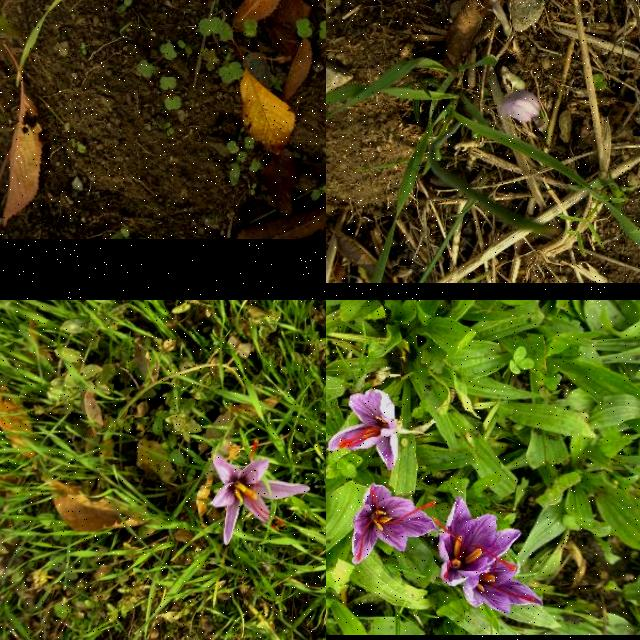flower: (208, 440, 310, 546), (352, 484, 436, 564), (326, 389, 399, 471)
overlap: (434, 498, 544, 614)
